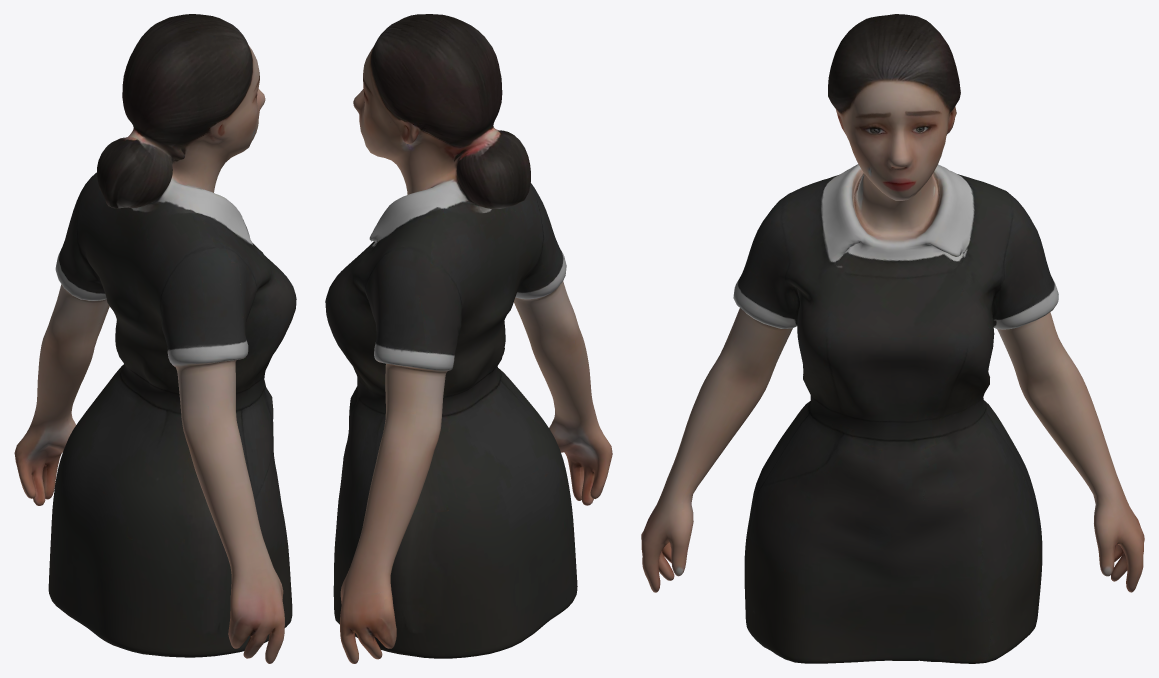
File: suspect_1.glb
The picture shows the model from 3 angles, left to right: view 1: azimuth 30°, elevation 25°; view 2: azimuth 150°, elevation 25°; view 3: azimuth 270°, elevation 25°; orthographic projection. The views are drawn at different scales.
Visible parts, largest first — view 1: tripo_node_6620fc99-02f7-44e4-bc80-c5cafa693e87; view 2: tripo_node_6620fc99-02f7-44e4-bc80-c5cafa693e87; view 3: tripo_node_6620fc99-02f7-44e4-bc80-c5cafa693e87.
Boxes of the visible parts, x1,y1,x2,y2 form: tripo_node_6620fc99-02f7-44e4-bc80-c5cafa693e87: [14, 14, 296, 663]; tripo_node_6620fc99-02f7-44e4-bc80-c5cafa693e87: [325, 14, 612, 663]; tripo_node_6620fc99-02f7-44e4-bc80-c5cafa693e87: [641, 14, 1144, 663].
Bounding box in the file's own units: 0.3443 × 0.9993 × 0.7397.
1 material, 1 textured.
